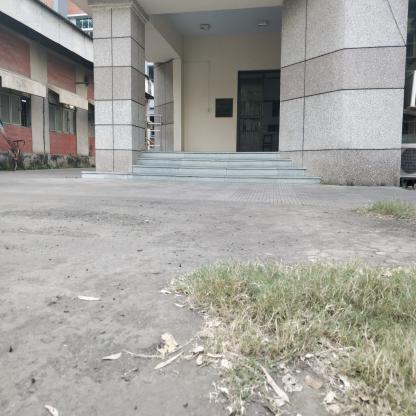stairs: (144, 153, 278, 186)
